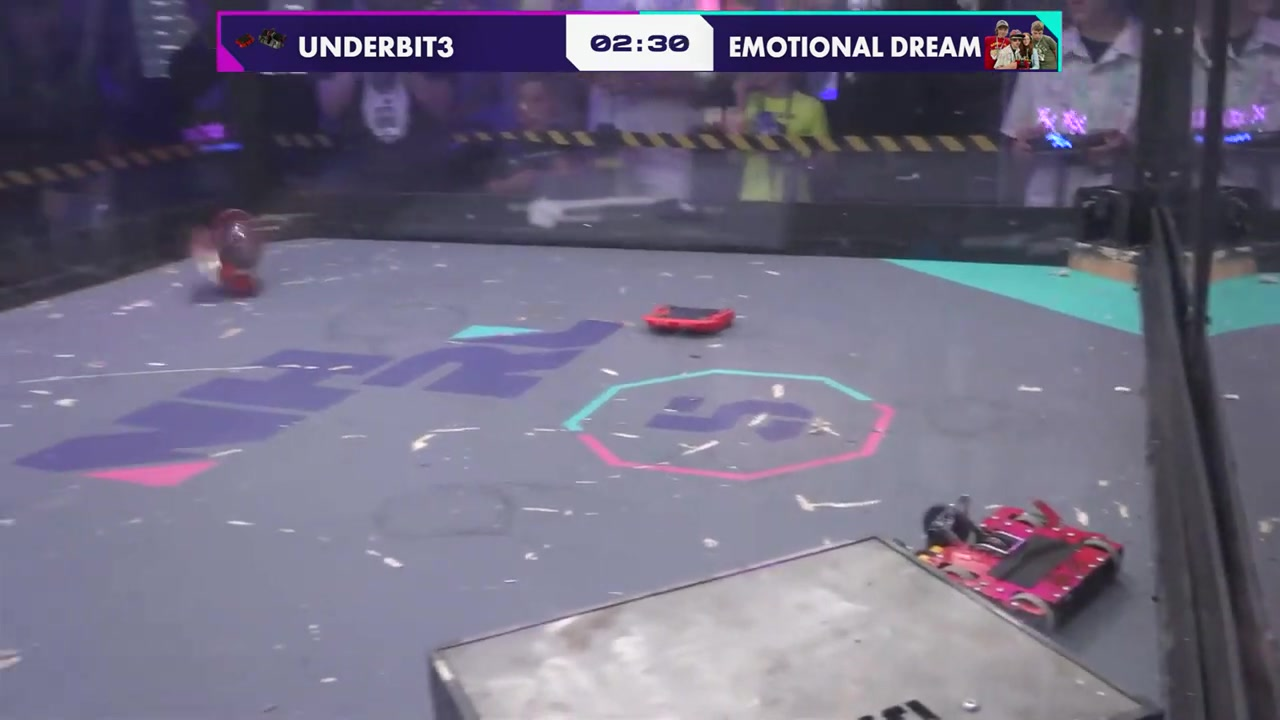combatbot: (909, 493, 1129, 638), (189, 209, 316, 305)
housebot: (421, 529, 1167, 720)
minibot: (642, 303, 738, 338)
